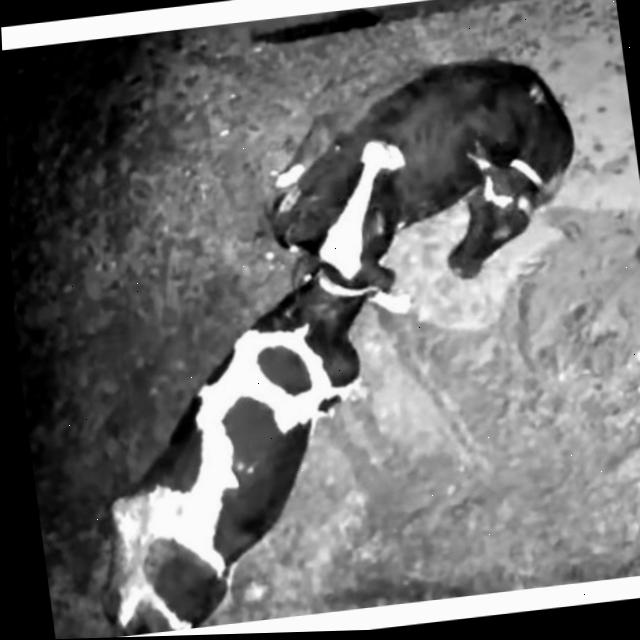propping: (271, 107, 449, 322)
